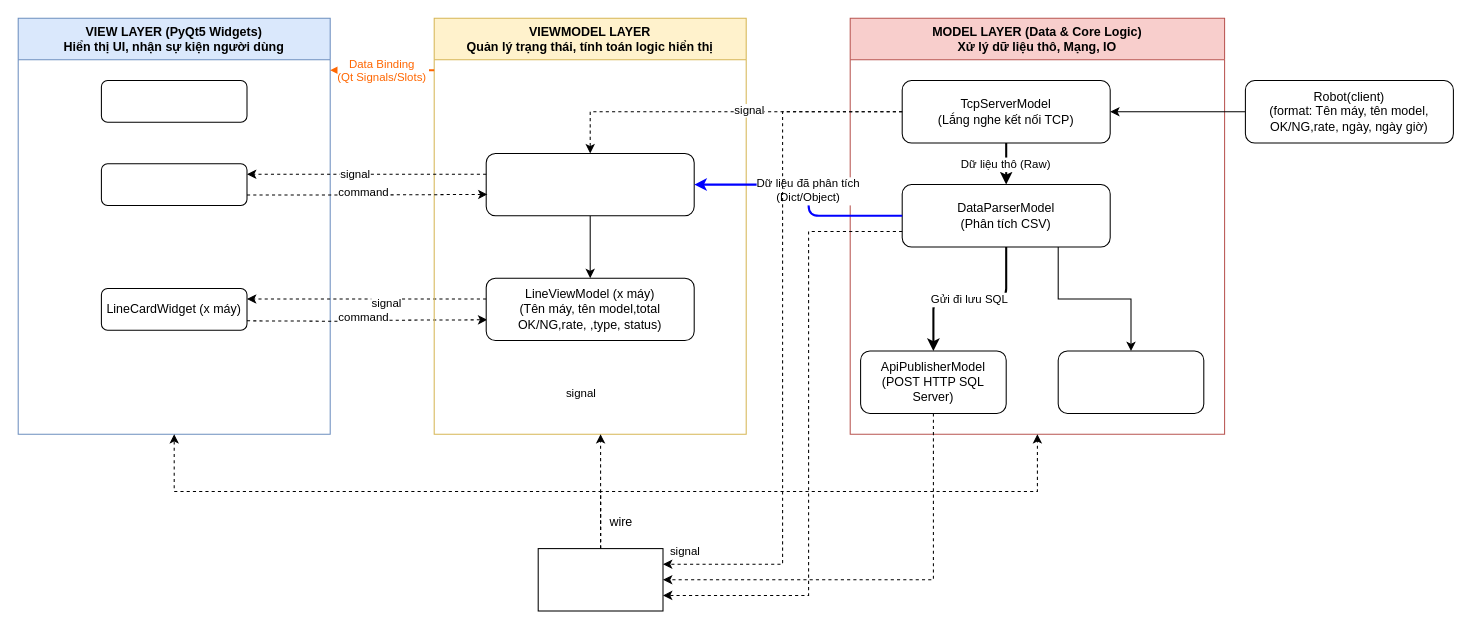
The diagram is 1472 pixels wide and 629 high, and some of its shapes have lost their labels. The centre of each missing label's shape, as x and y in pixels:
"DashboardViewModel (Tổng/OK/NG/wait_material, running, offline)" belongs at (x=589, y=184).
"main" belongs at (x=600, y=579).
"MainWindow" belongs at (x=173, y=101).
"Save log" belongs at (x=1130, y=381).
"SummaryWidget" belongs at (x=173, y=184).
